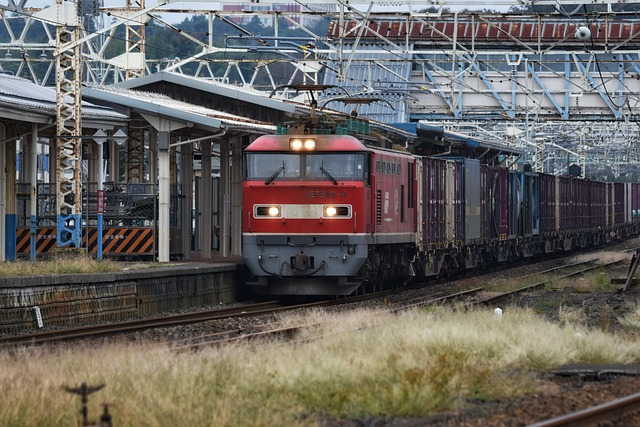train1: (241, 128, 637, 300)
